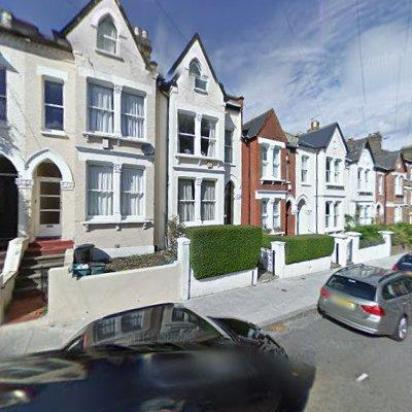stationary-car-onstreet: (0, 300, 290, 412), (316, 262, 412, 342), (390, 250, 412, 280)
